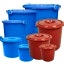plastic: (0, 35, 21, 56)
